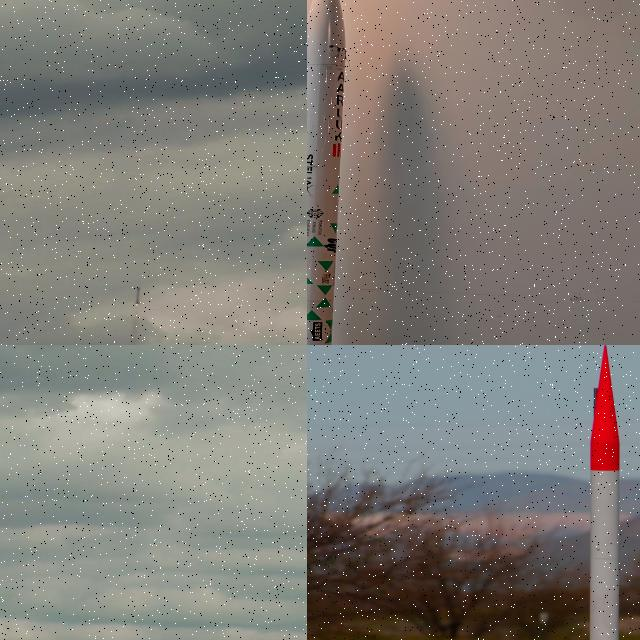Rocket: (535, 345, 640, 640), (307, 0, 346, 345), (134, 287, 140, 304)
